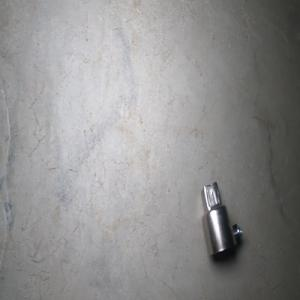MetalPart: (200, 180, 243, 256)
